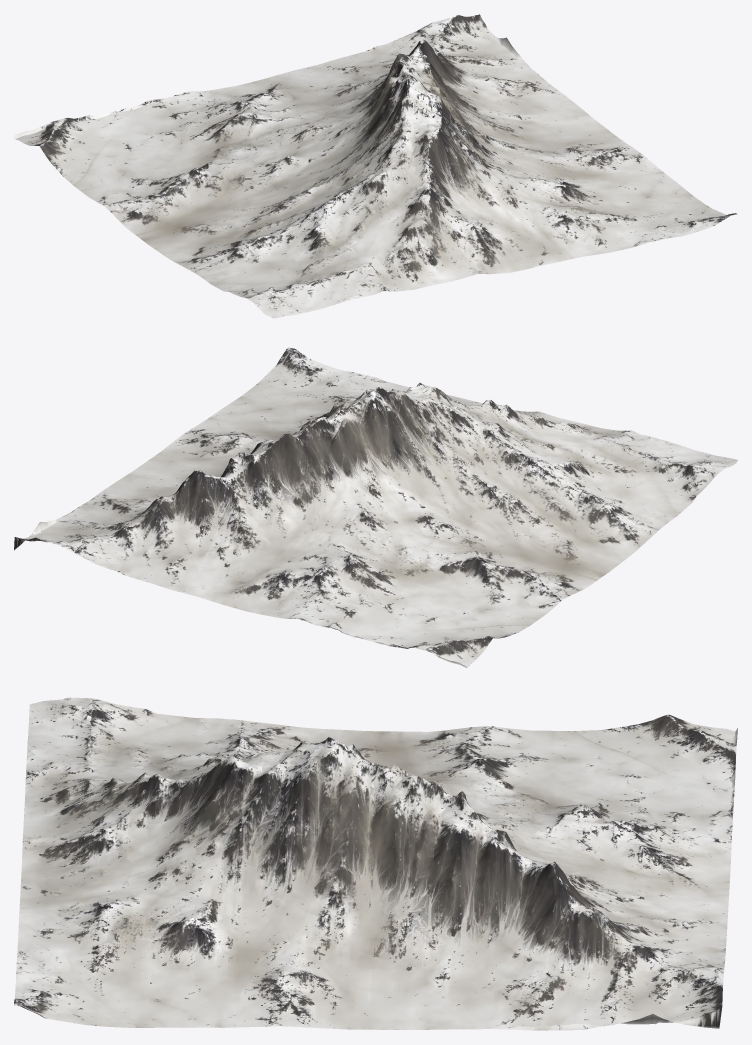
The model's file is peak.glb.
3 views of the same model, one above another, from view 1: azimuth 30°, elevation 25°; view 2: azimuth 150°, elevation 25°; view 3: azimuth 270°, elevation 25° (orthographic). The views are drawn at different scales.
Visible parts, largest first — view 1: Plane001; view 2: Plane001; view 3: Plane001.
Boxes of the visible parts, box(x1,y1,x2,y2) form: Plane001: box(14, 14, 737, 318); Plane001: box(14, 347, 737, 668); Plane001: box(14, 697, 737, 1030).
Bounding box in the file's own units: 143 × 33.42 × 143.
1 material, 1 textured.
